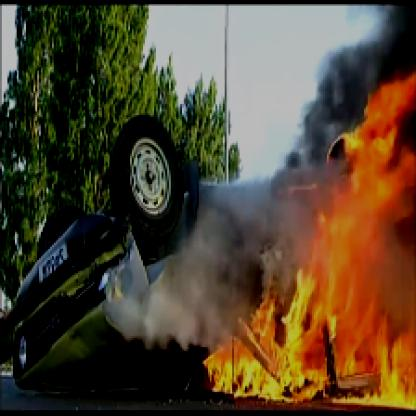Fire: (193, 50, 414, 412)
